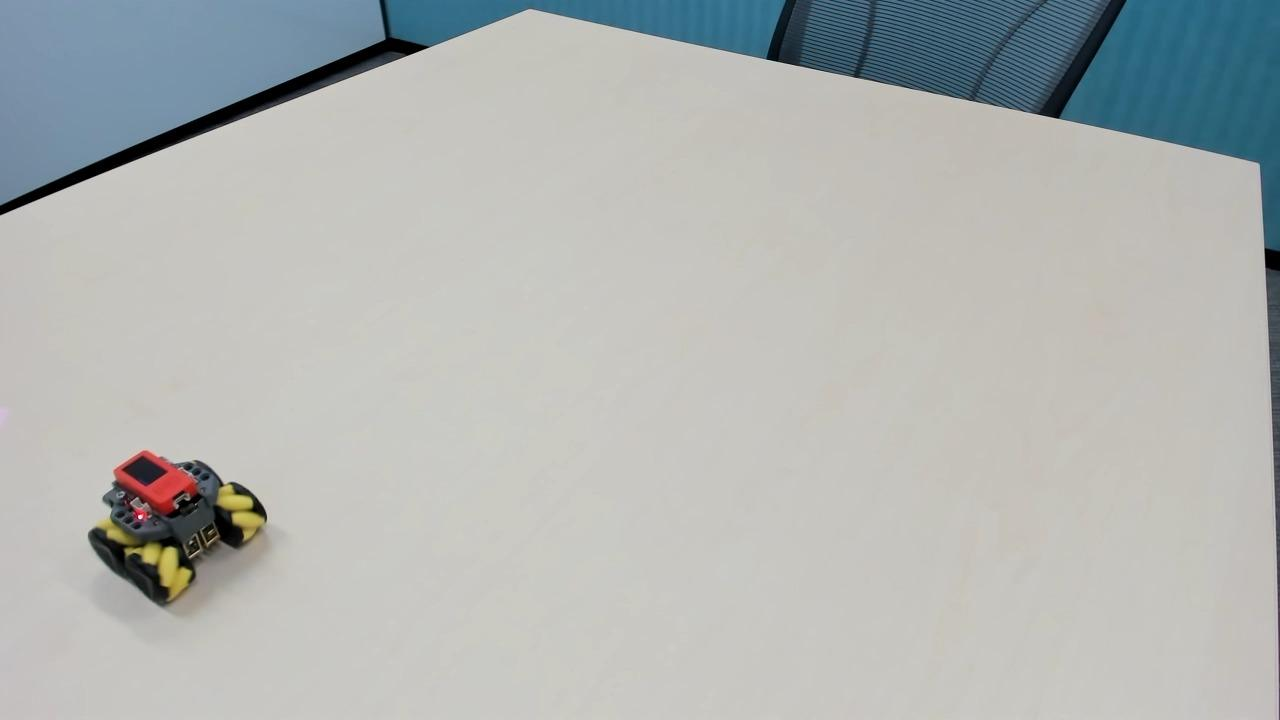R-Robot: (65, 441, 288, 610)
